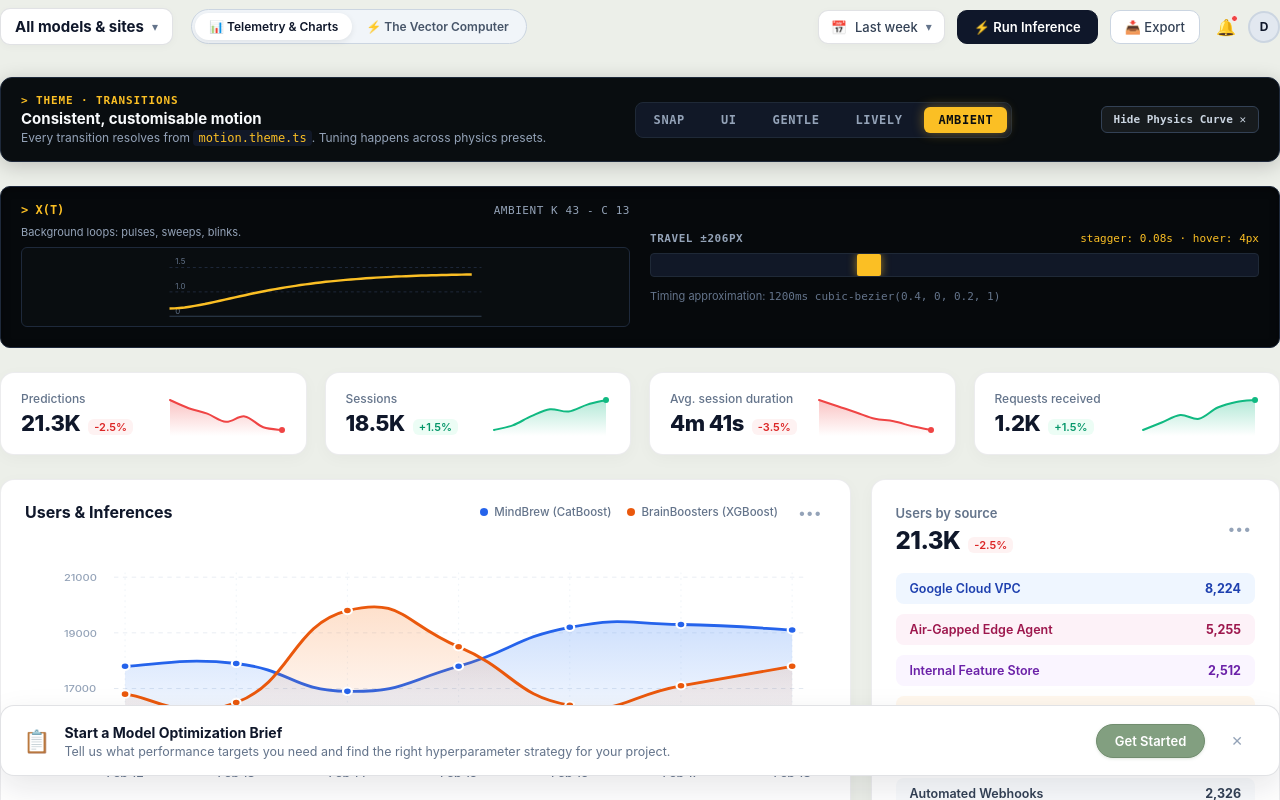
Test: AnalysisView Component › renders motion presets toolbar and toggles spring physics presets
Expected: the text "Consistent, customisable motion" is shown, top-left (21, 109), bottom-right (262, 128)
Expected: the tab "SNAP" is shown, top-left (640, 106), bottom-right (699, 132)
Switch to LIVELY (K 622, C 17)
Click the tab "LIVELY" at (879, 120), box top-left (842, 106), bottom-right (916, 132)
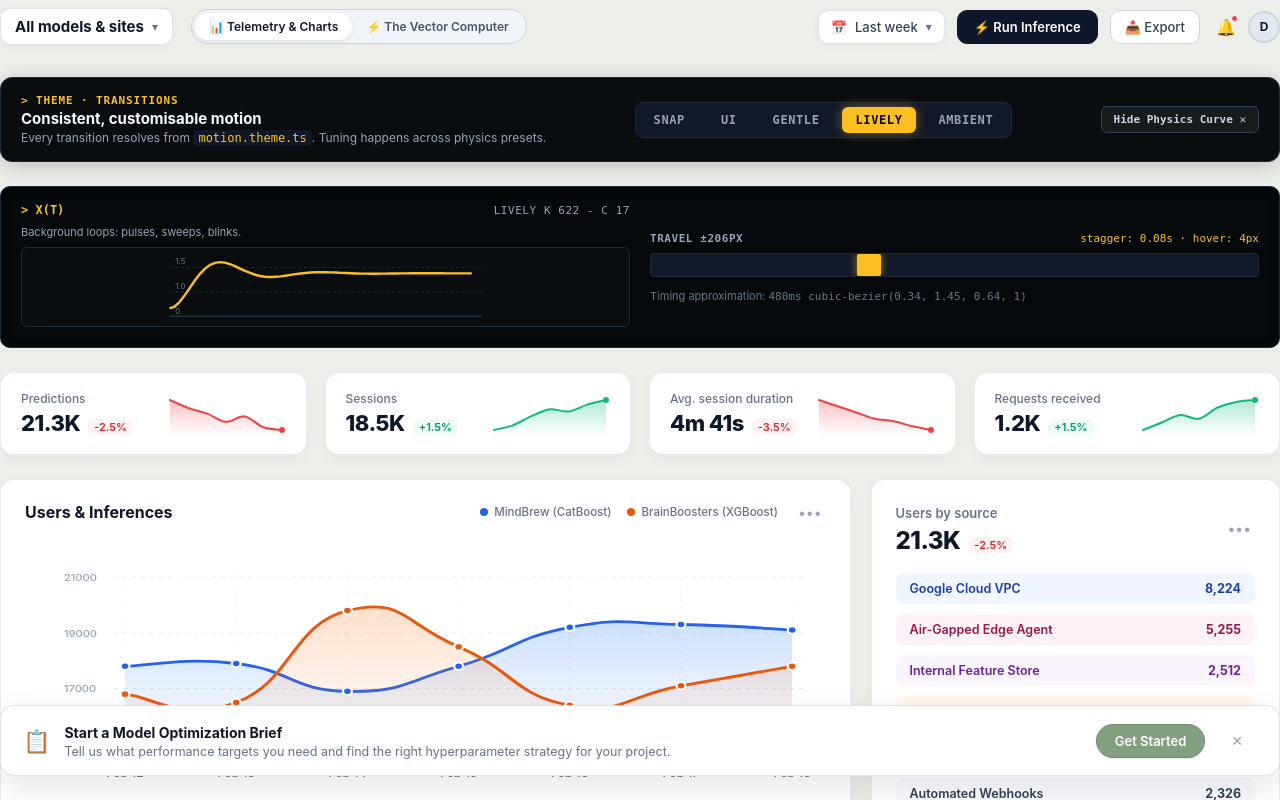
Now the text "LIVELY K 622 - C 17" is shown, box top-left (494, 204), bottom-right (630, 216)
Switch to SNAP (K 1218, C 70)
Click the tab "SNAP" at (669, 120), box top-left (640, 106), bottom-right (699, 132)
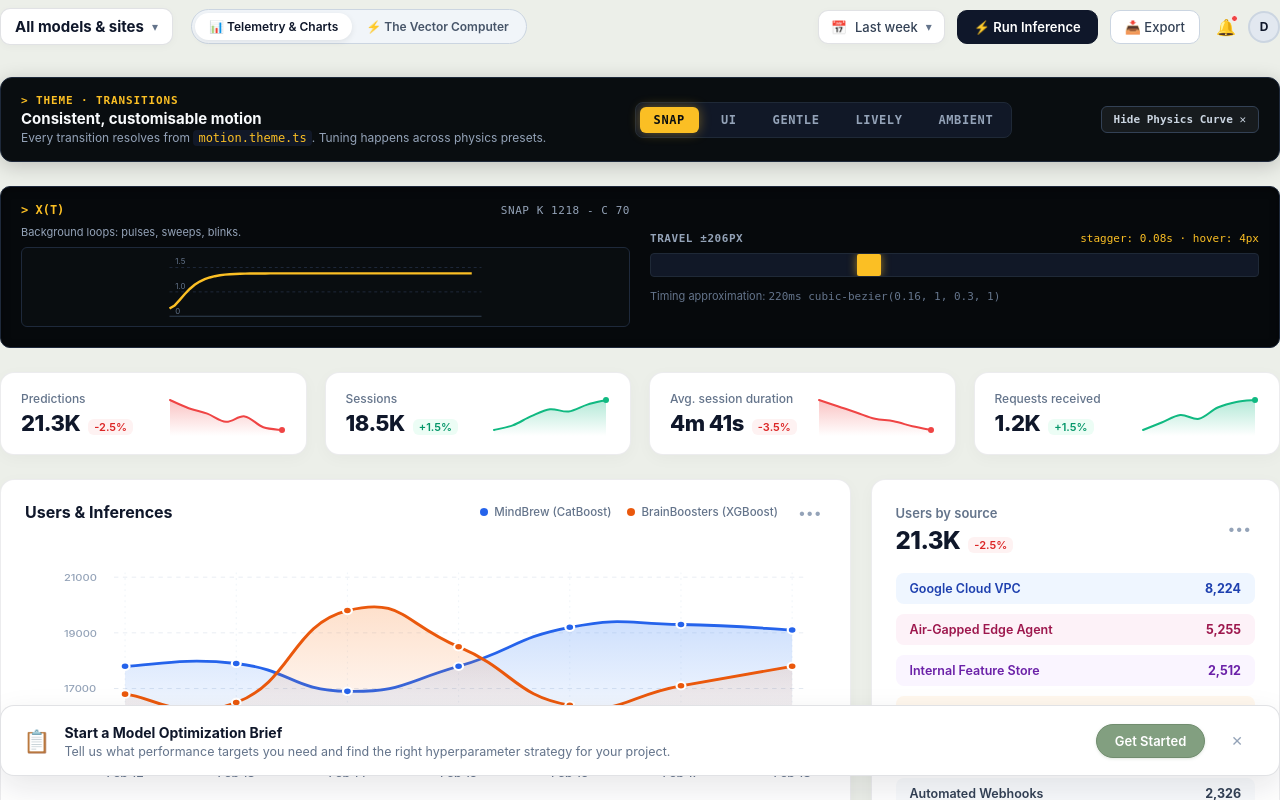
Now the text "SNAP K 1218 - C 70" is shown, box top-left (501, 204), bottom-right (630, 216)
